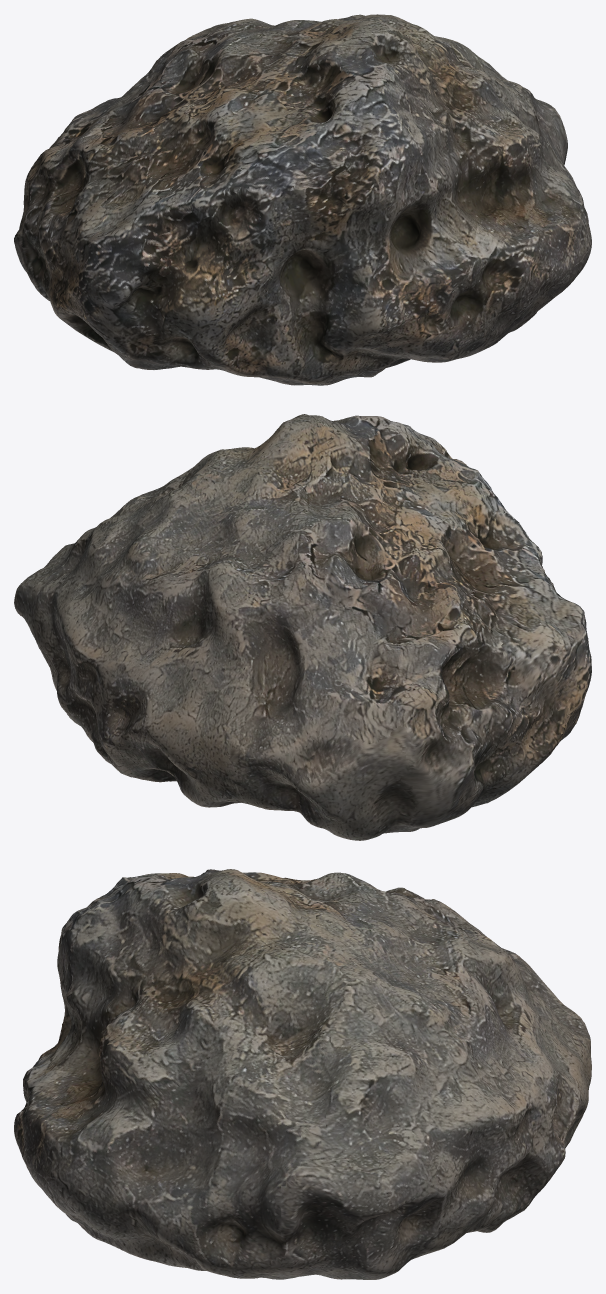
The model's file is asteroid_common_1.glb.
3 views of the same model, one above another, from view 1: azimuth 30°, elevation 25°; view 2: azimuth 150°, elevation 25°; view 3: azimuth 270°, elevation 25° (orthographic). The views are drawn at different scales.
Visible parts, largest first — view 1: model; view 2: model; view 3: model.
Boxes of the visible parts, x1,y1,x2,y2 form: model: [14, 14, 591, 385]; model: [14, 414, 591, 840]; model: [14, 869, 591, 1279].
Bounding box in the file's own units: 1.88 × 1.15 × 1.67.
Materials: 1 (1 with a texture image).
